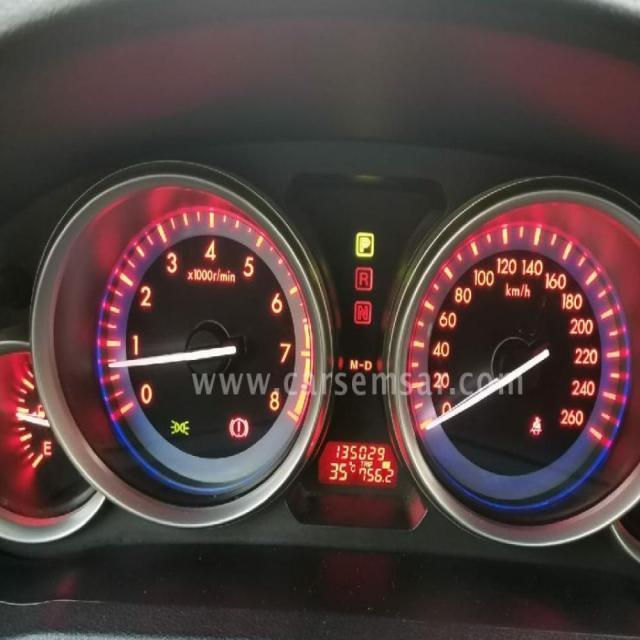Seat Belt: (528, 414, 542, 436)
